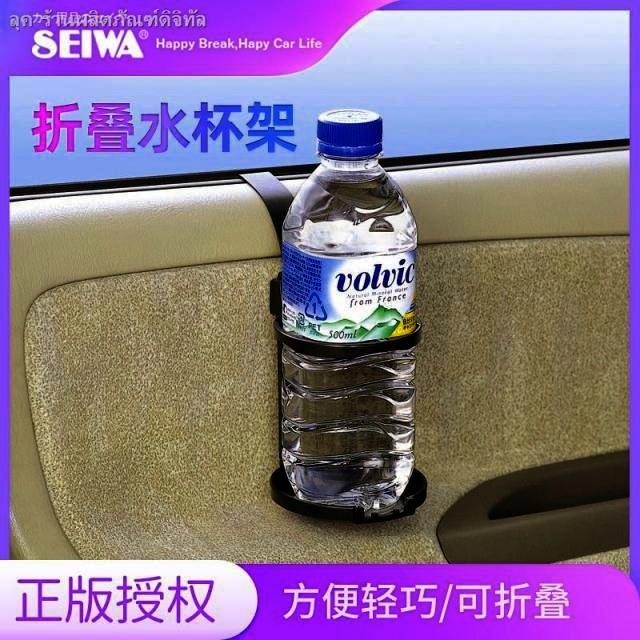bottle: (280, 110, 417, 516)
